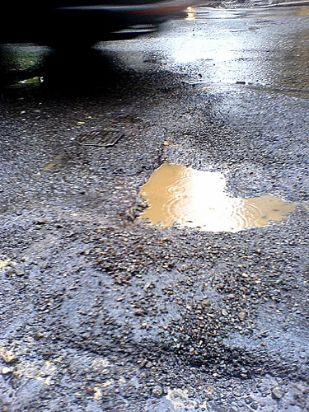pothole: (126, 156, 296, 235)
